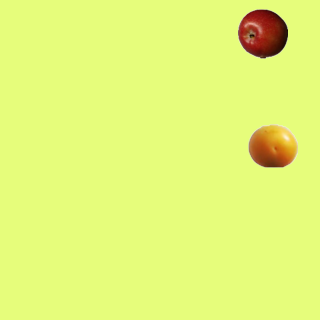Apple Braeburn: (237, 8, 287, 58)
Cherry Wax Yellow: (247, 120, 297, 170)
